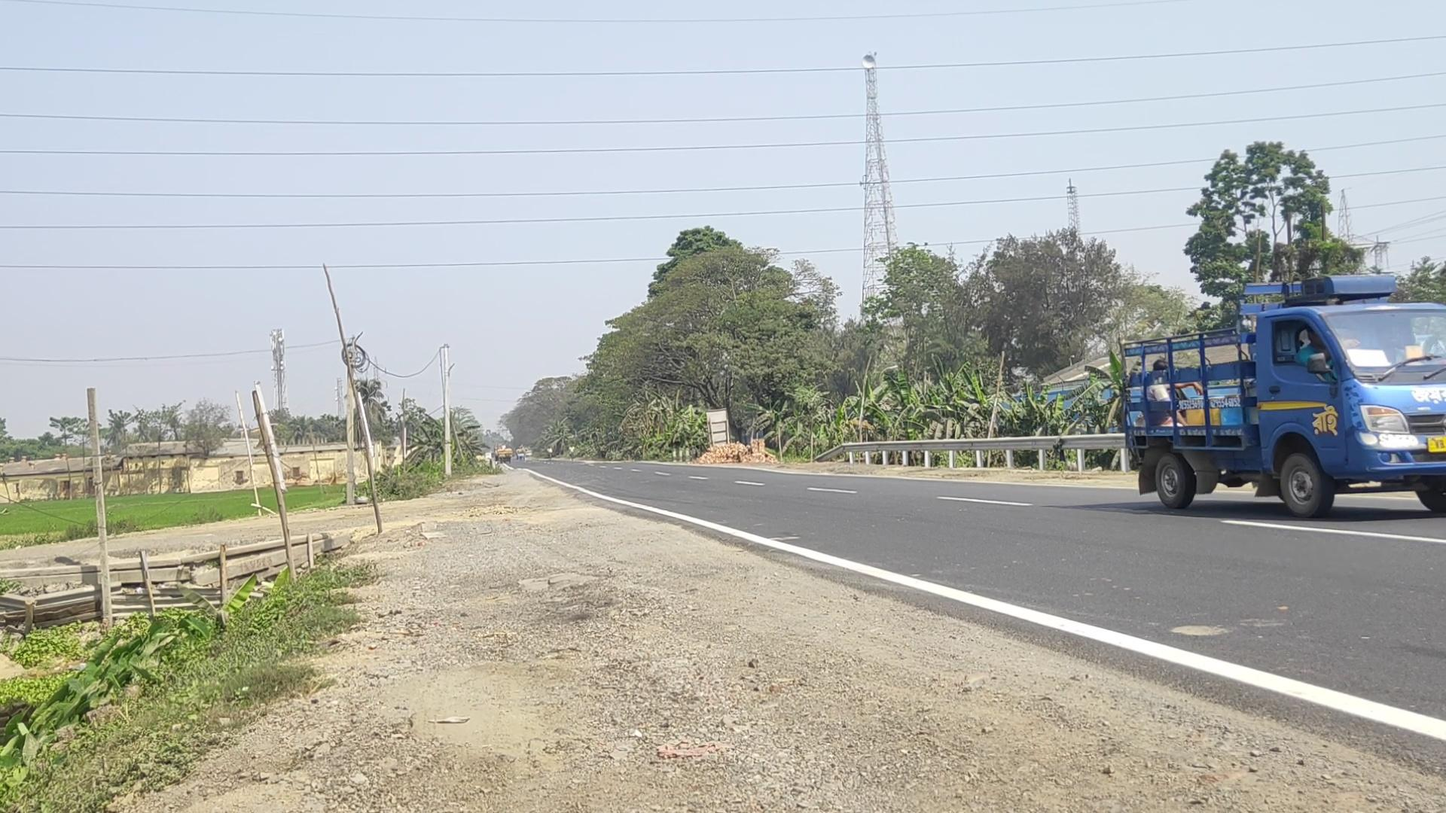van: (1119, 273, 1446, 519)
